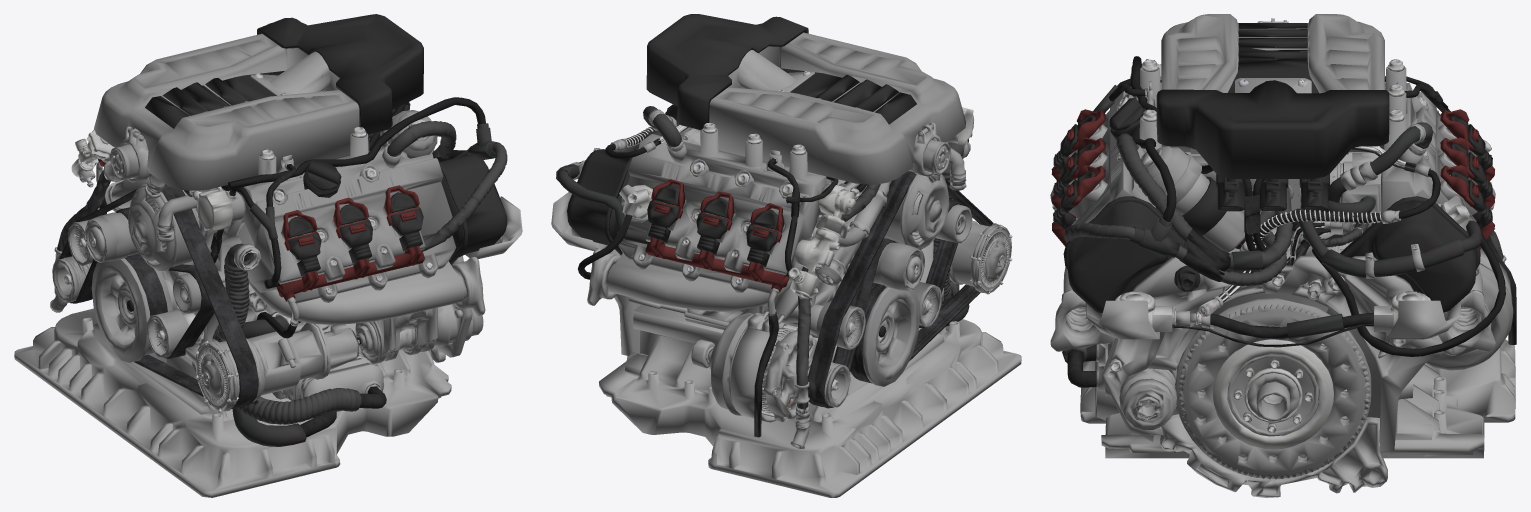
The picture shows the model from 3 angles, left to right: view 1: azimuth 30°, elevation 25°; view 2: azimuth 150°, elevation 25°; view 3: azimuth 270°, elevation 25°; orthographic projection. The views are drawn at different scales.
Parts seen in each view (by area): view 1: engine_01_mesh_00, engine_02_mesh_00; view 2: engine_01_mesh_00, engine_02_mesh_00; view 3: engine_02_mesh_00, engine_01_mesh_00.
Boxes of the visible parts, box(x1,y1,x2,y2) form: engine_01_mesh_00: box(14, 23, 522, 497); engine_02_mesh_00: box(71, 14, 507, 398); engine_01_mesh_00: box(551, 46, 1021, 497); engine_02_mesh_00: box(567, 14, 1006, 415); engine_02_mesh_00: box(1051, 14, 1513, 479); engine_01_mesh_00: box(1050, 18, 1516, 497).
Size of the model in its own units: 0.9825 by 0.9693 by 1.08.
15 materials, 10 textured.
